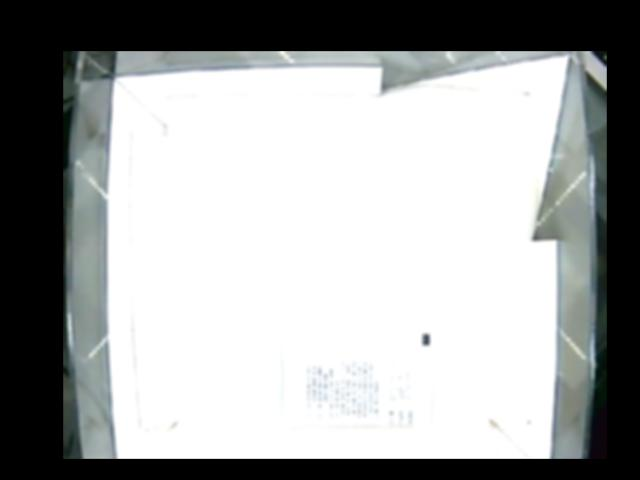Medicine: (279, 330, 433, 426)
